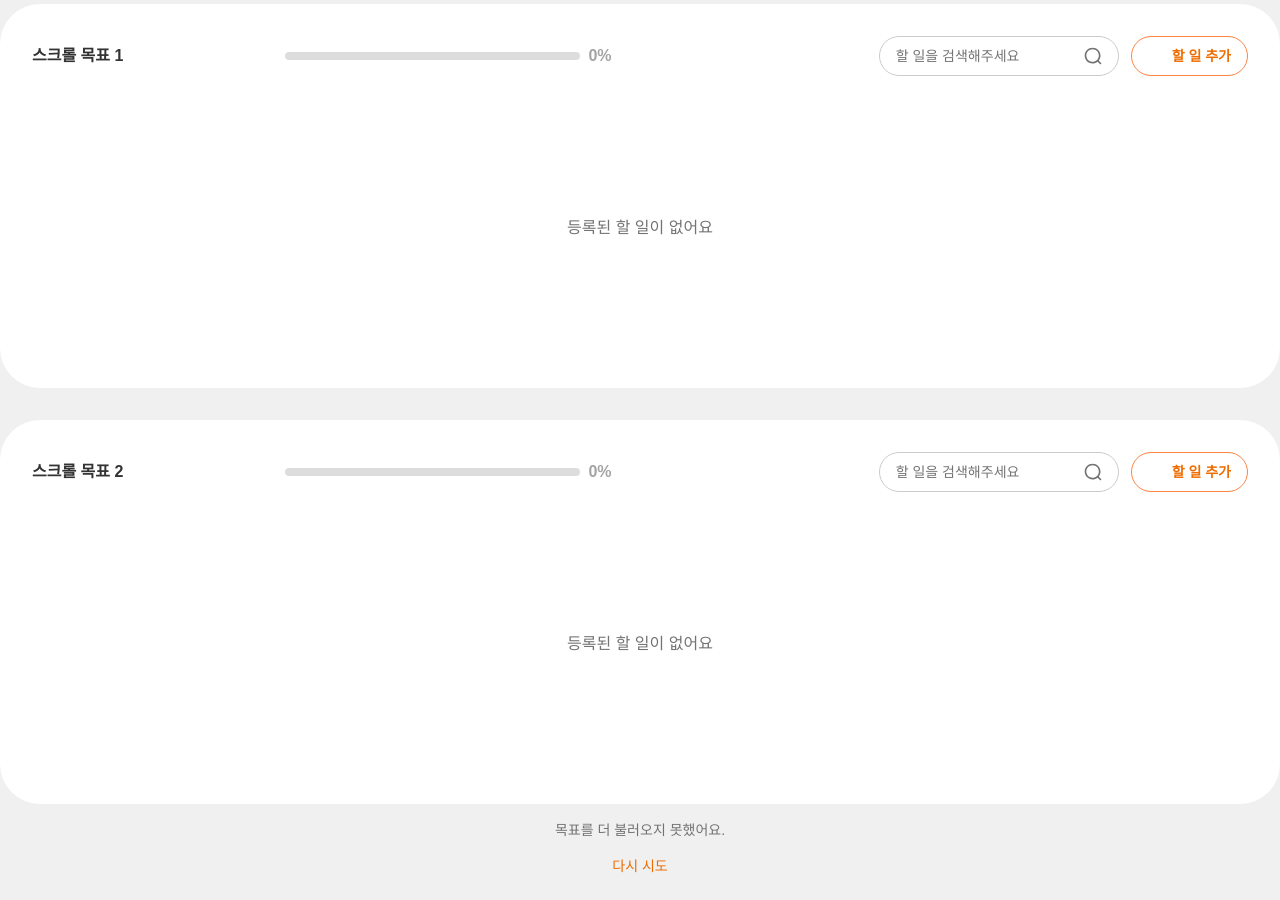
Test case: 목표 목록 무한 스크롤 › 추가 목표 조회 실패 시 기존 카드를 유지하며 버튼으로 재시도한다
(page scrolled)
Click the button "다시 시도": click(640, 866) [596,848,684,884]
(page scrolled)
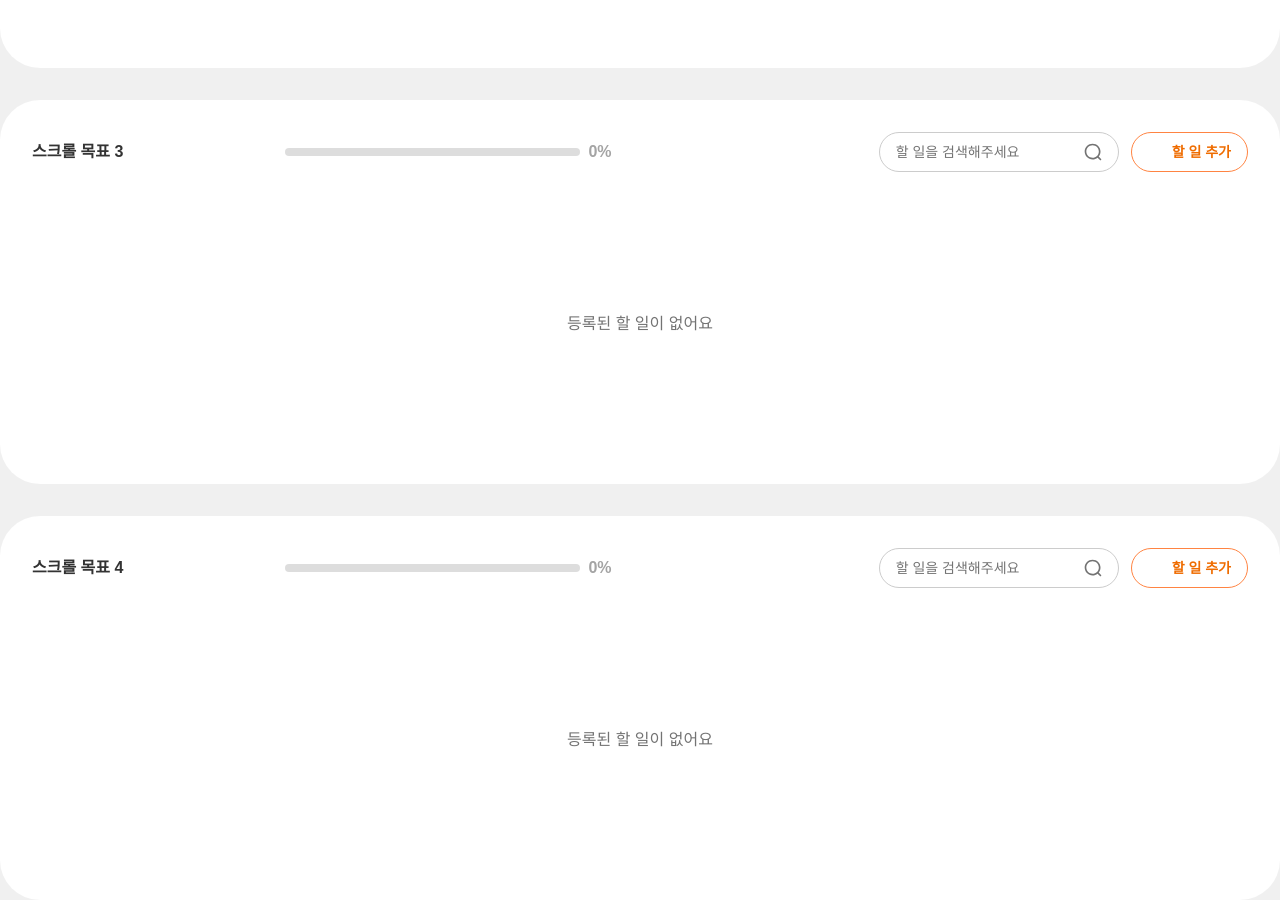
Expected: the heading "스크롤 목표 4" is shown, [32,559,123,576]
Expected: the button "다시 시도" is gone
